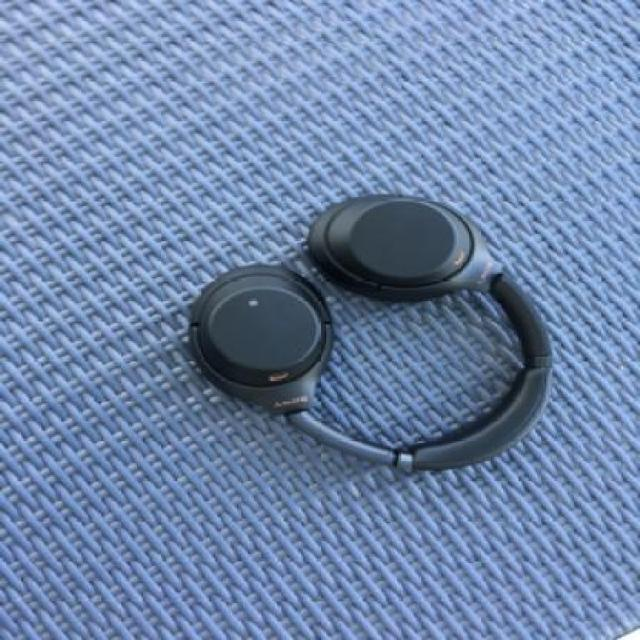earphone: (160, 138, 548, 495)
